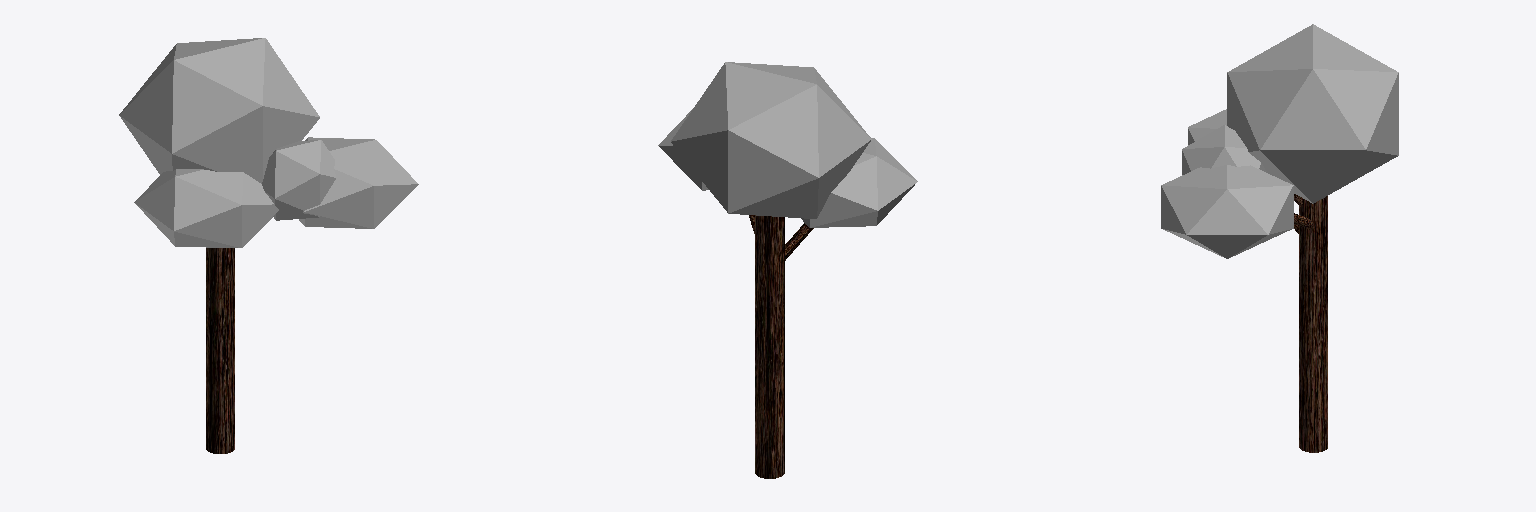
3 renders of one model, left to right at view 1: azimuth 30°, elevation 25°; view 2: azimuth 150°, elevation 25°; view 3: azimuth 270°, elevation 25°, orthographic.
Parts seen in each view (by area): view 1: Icosahedron201, Icosahedron203, Icosahedron202, Cylinder64, Icosahedron204; view 2: Icosahedron201, Cylinder64, Icosahedron203, Icosahedron202; view 3: Icosahedron201, Icosahedron202, Cylinder64, Icosahedron204, Icosahedron203.
Part boxes in pixels (x1,y1,x2,y2): Icosahedron201: (119,38,319,183); Icosahedron203: (134,169,278,247); Icosahedron202: (299,137,418,228); Cylinder64: (206,248,234,453); Icosahedron204: (262,140,335,220); Icosahedron201: (671,62,871,218); Cylinder64: (755,215,784,478); Icosahedron203: (801,138,917,227); Icosahedron202: (658,109,708,190); Icosahedron201: (1227,24,1398,203); Icosahedron202: (1161,165,1293,258); Cylinder64: (1299,196,1327,452); Icosahedron204: (1182,125,1266,174); Icosahedron203: (1188,109,1226,144).
Bounding box in the file's own units: 9.08 × 14.94 × 8.05.
Materials: 2 (1 with a texture image).